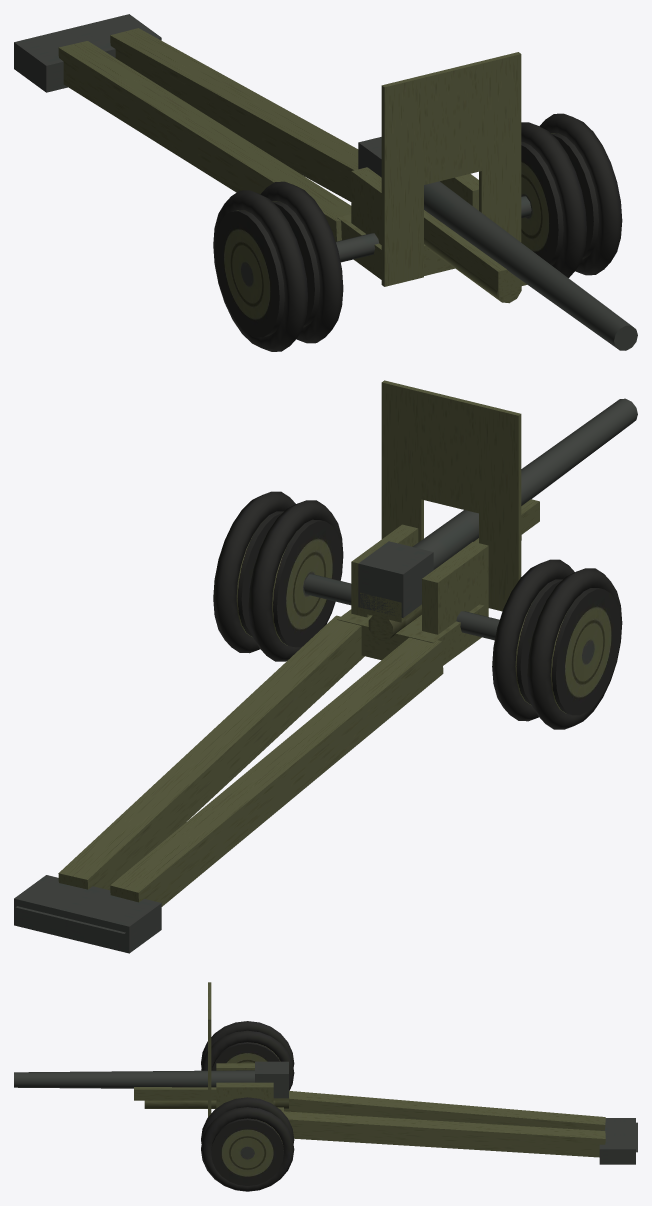
Rendered from artillery.glb.
3 renders of one model, top to bottom at view 1: azimuth 30°, elevation 25°; view 2: azimuth 150°, elevation 25°; view 3: azimuth 270°, elevation 25°, orthographic. The views are drawn at different scales.
Parts seen in each view (by area): view 1: shield, wheels_right, trail_right, trail_left, wheels_left, barrel, carriage; view 2: trail_right, trail_left, shield, wheels_right, wheels_left, barrel, carriage; view 3: trail_left, wheels_left, barrel, trail_right, wheels_right, carriage, shield.
Part boxes in pixels (x1,y1,x2,y2): shield: [381, 52, 521, 286]; wheels_right: [213, 181, 343, 351]; trail_right: [14, 27, 351, 241]; trail_left: [66, 14, 358, 201]; wheels_left: [521, 113, 622, 277]; barrel: [358, 137, 637, 350]; carriage: [336, 167, 531, 279]; trail_right: [65, 637, 443, 953]; trail_left: [14, 615, 364, 940]; shield: [381, 380, 521, 611]; wheels_right: [492, 559, 622, 729]; wheels_left: [213, 491, 343, 661]; barrel: [358, 398, 637, 640]; carriage: [304, 524, 499, 665]; trail_left: [284, 1111, 637, 1164]; wheels_left: [201, 1097, 294, 1191]; barrel: [14, 1061, 288, 1108]; trail_right: [284, 1091, 637, 1136]; wheels_right: [201, 1021, 294, 1090]; carriage: [216, 1063, 283, 1113]; shield: [208, 982, 211, 1116].
Bounding box in the file's own units: 2.13 × 1.57 × 6.01.
Materials: 3 (3 with a texture image).
